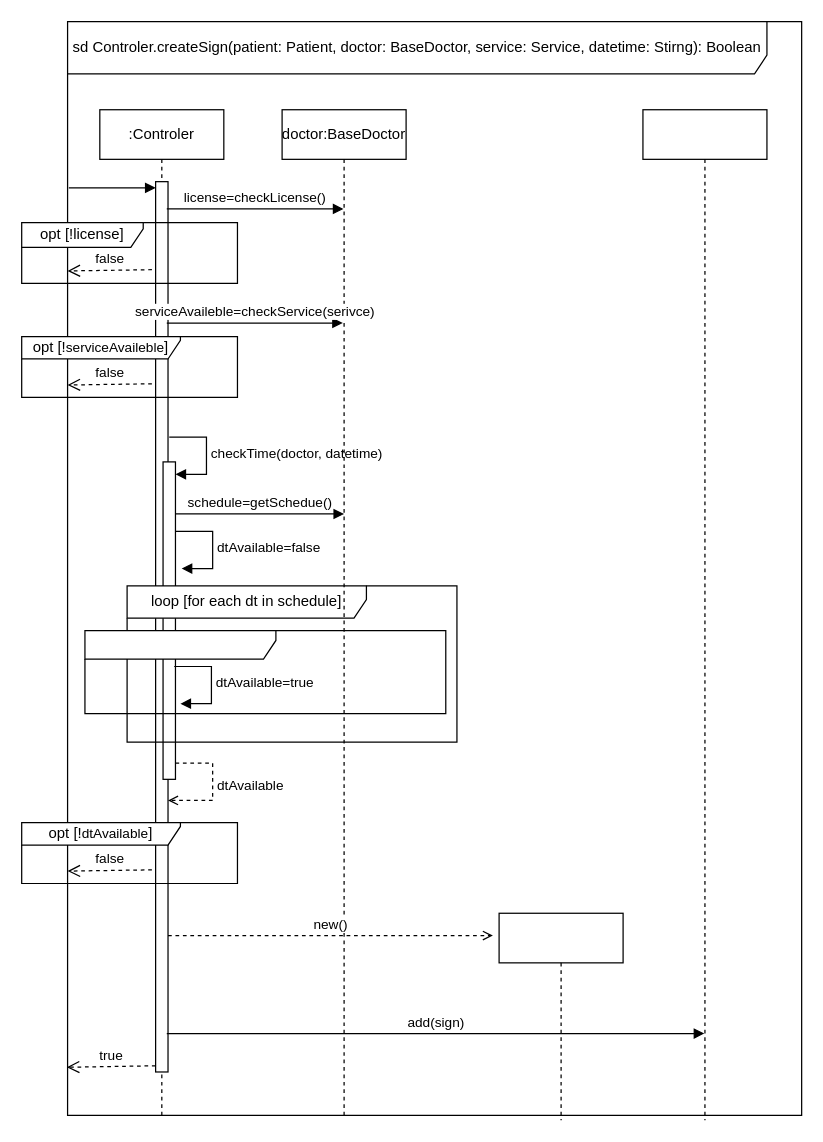
Image size: 823x1142. Some labels were removed from this diagram. Here are the shapes that lost their labels. From the top down, the box of each, then its label:
(642, 108, 767, 1120): db: DB
(84, 629, 446, 714): break [dt == datetime]
(498, 912, 623, 1120): sign:Sign
